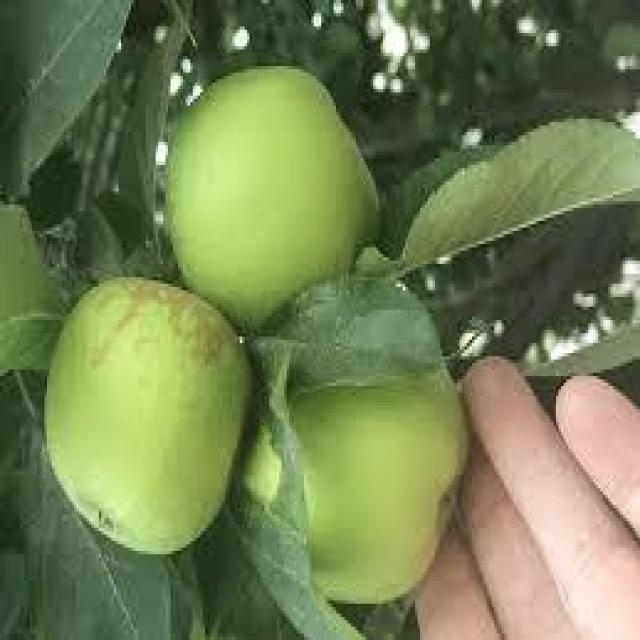Rotten Apple: (244, 337, 486, 607), (154, 51, 392, 315), (38, 264, 248, 561)
